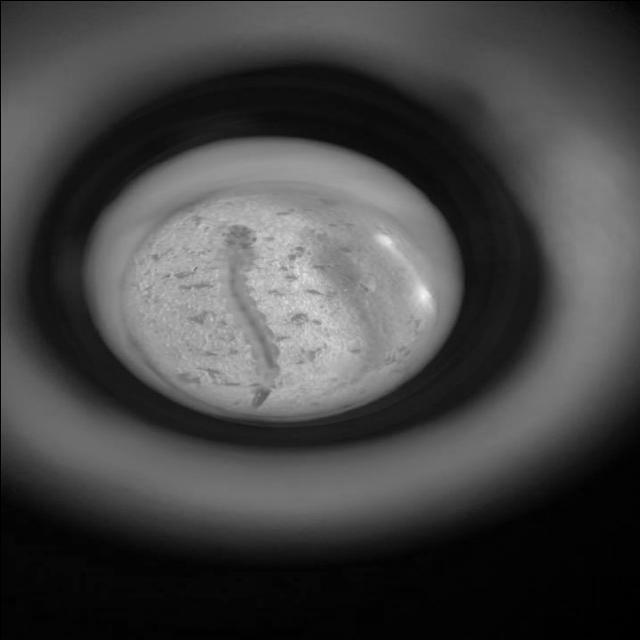larvas: (225, 222, 275, 413)
